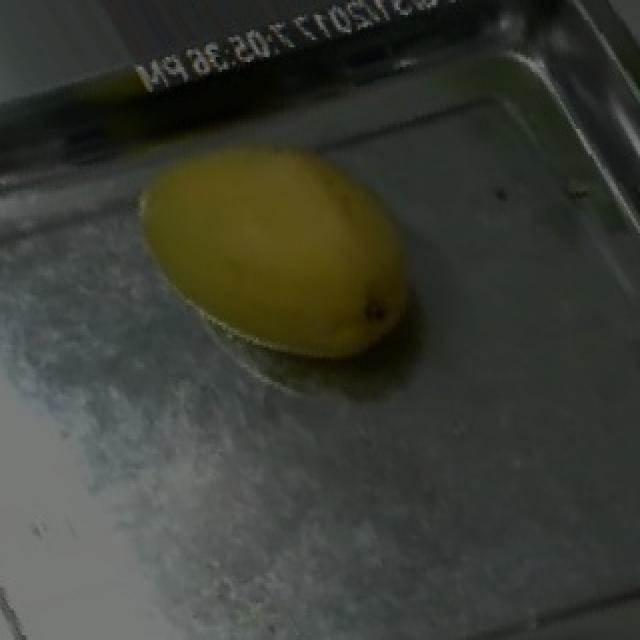fruit: (96, 77, 458, 407)
